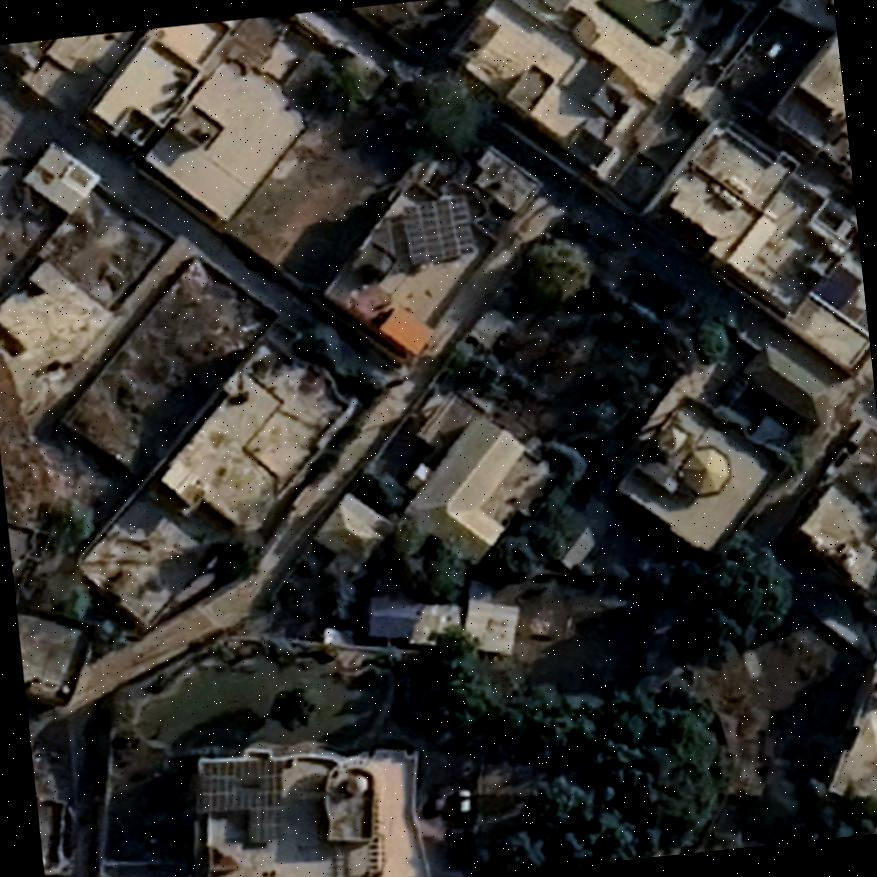Solarpanel: (191, 753, 284, 815), (400, 194, 474, 266), (243, 807, 282, 843)
